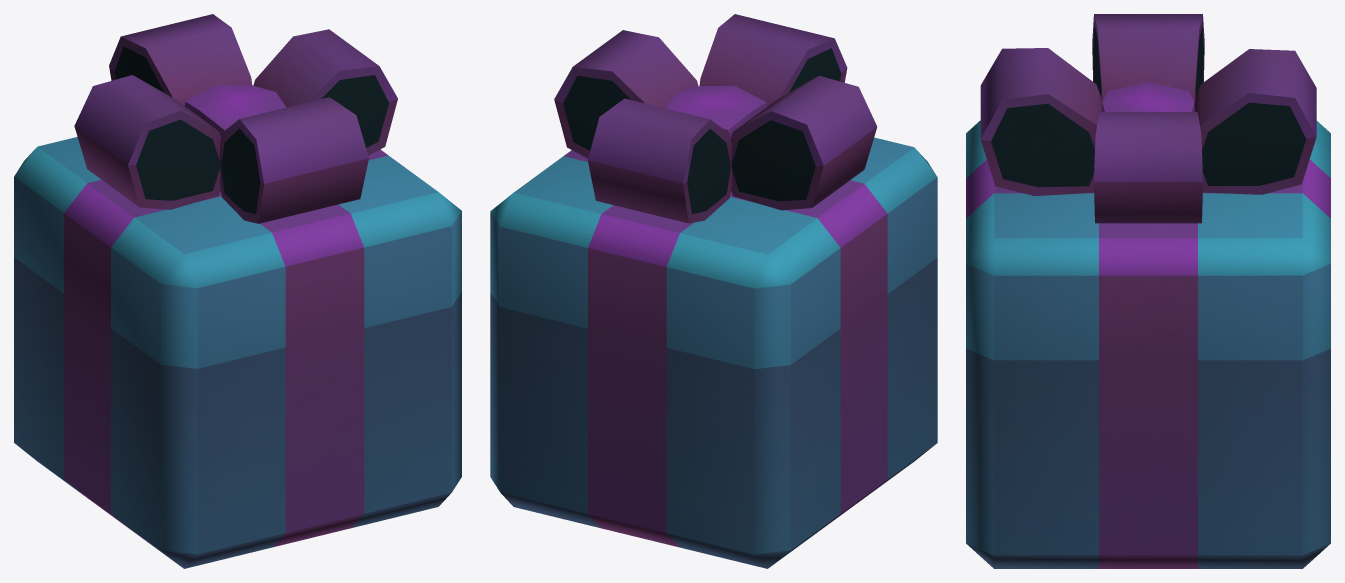
The model's file is presi_square_4_blue.fbx.
The picture shows the model from 3 angles, left to right: view 1: azimuth 30°, elevation 25°; view 2: azimuth 150°, elevation 25°; view 3: azimuth 270°, elevation 25°; orthographic projection. The views are drawn at different scales.
Parts seen in each view (by area): view 1: presi_square_4_blue; view 2: presi_square_4_blue; view 3: presi_square_4_blue.
Boxes of the visible parts, x1,y1,x2,y2 form: presi_square_4_blue: [14, 14, 461, 568]; presi_square_4_blue: [490, 14, 937, 568]; presi_square_4_blue: [966, 14, 1330, 568].
Size of the model in its own units: 75 by 98 by 75.
1 material, 1 textured.
